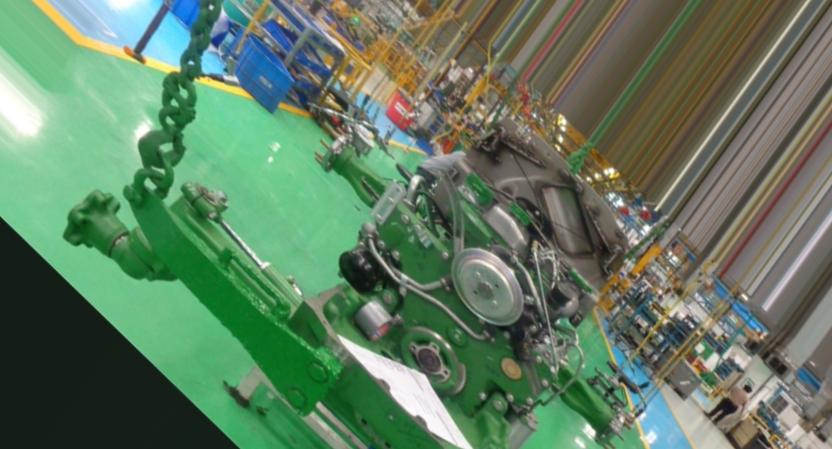engine: (62, 123, 691, 449)
